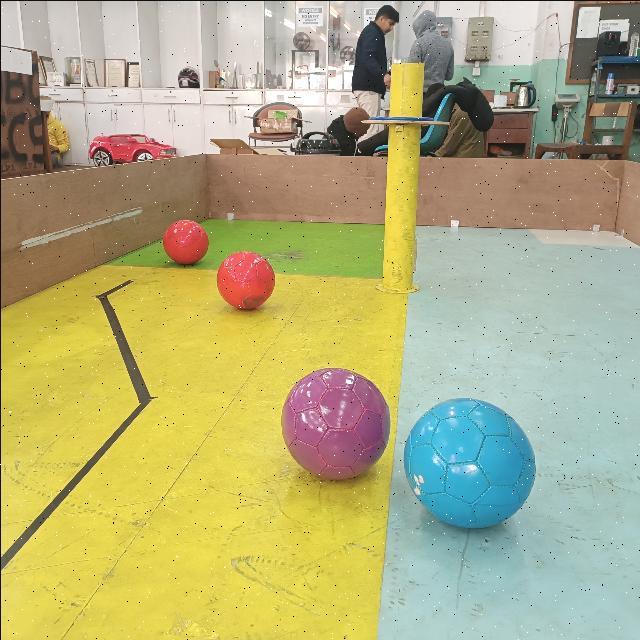B: (401, 396, 537, 530)
P: (278, 365, 392, 483)
R: (215, 250, 275, 308), (162, 218, 208, 266)
